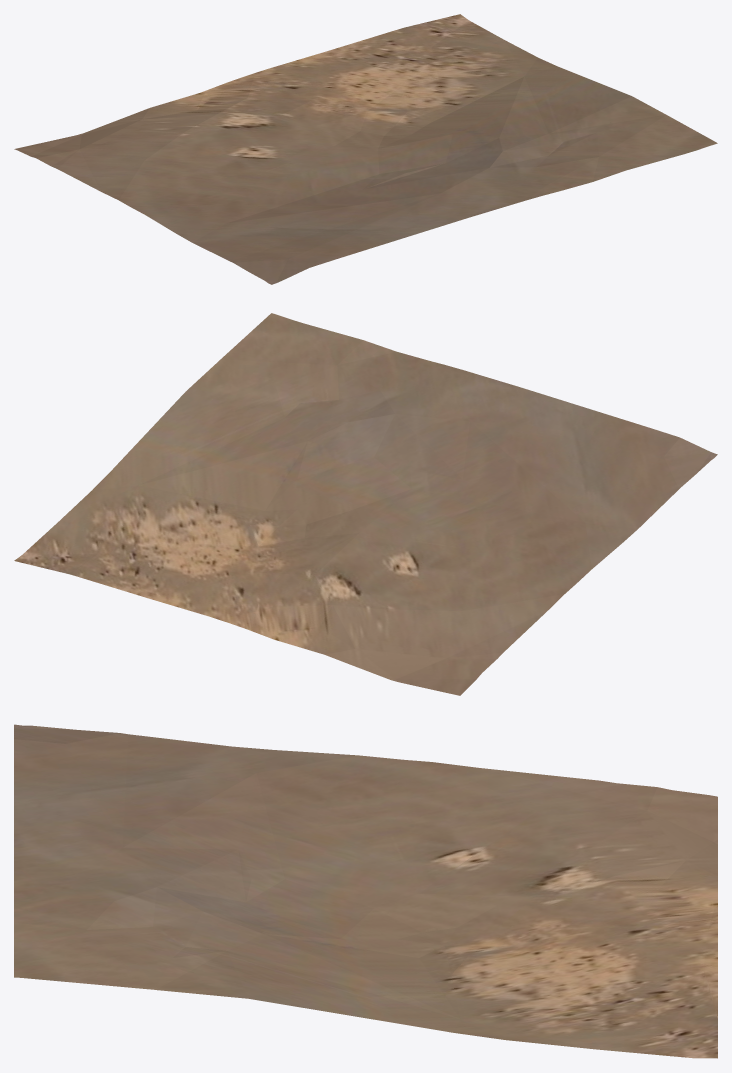
3 renders of one model, top to bottom at view 1: azimuth 30°, elevation 25°; view 2: azimuth 150°, elevation 25°; view 3: azimuth 270°, elevation 25°, orthographic. The views are drawn at different scales.
Size of the model in its own units: 2.09 by 0.3882 by 2.09.
Materials: 2 (2 with a texture image).
